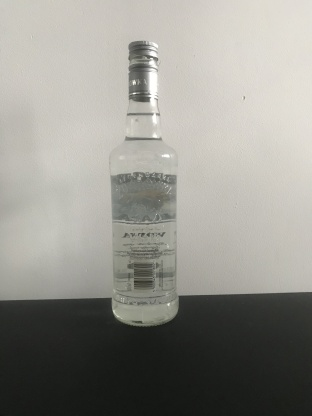nakretka: (127, 39, 160, 103)
